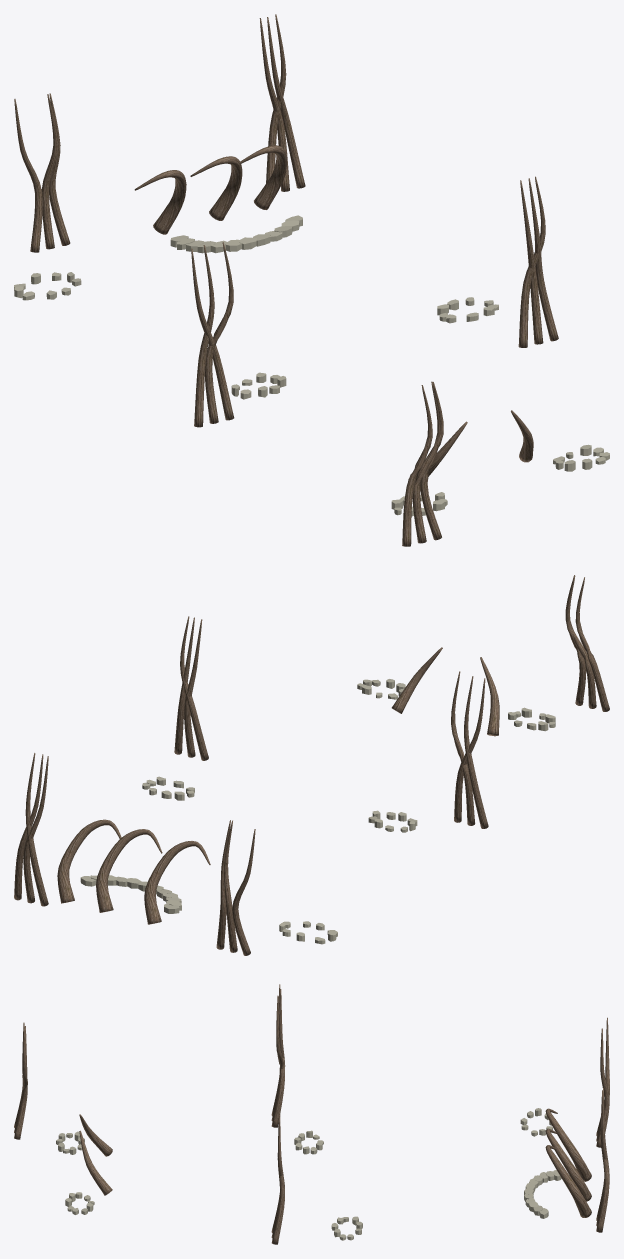
File: R4_UniqueLandmarks.fbx
3 renders of one model, top to bottom at view 1: azimuth 30°, elevation 25°; view 2: azimuth 150°, elevation 25°; view 3: azimuth 270°, elevation 25°, orthographic. The views are drawn at different scales.
Parts seen in each view (by area): view 1: R4_UniqueLandmarks; view 2: R4_UniqueLandmarks; view 3: R4_UniqueLandmarks.
Part boxes in pixels (x1=…): R4_UniqueLandmarks: x1=14, y1=14, x2=609, y2=546; R4_UniqueLandmarks: x1=14, y1=575, x2=609, y2=955; R4_UniqueLandmarks: x1=14, y1=984, x2=609, y2=1244.
Bounding box in the file's own units: 32.65 × 15.35 × 62.44.
